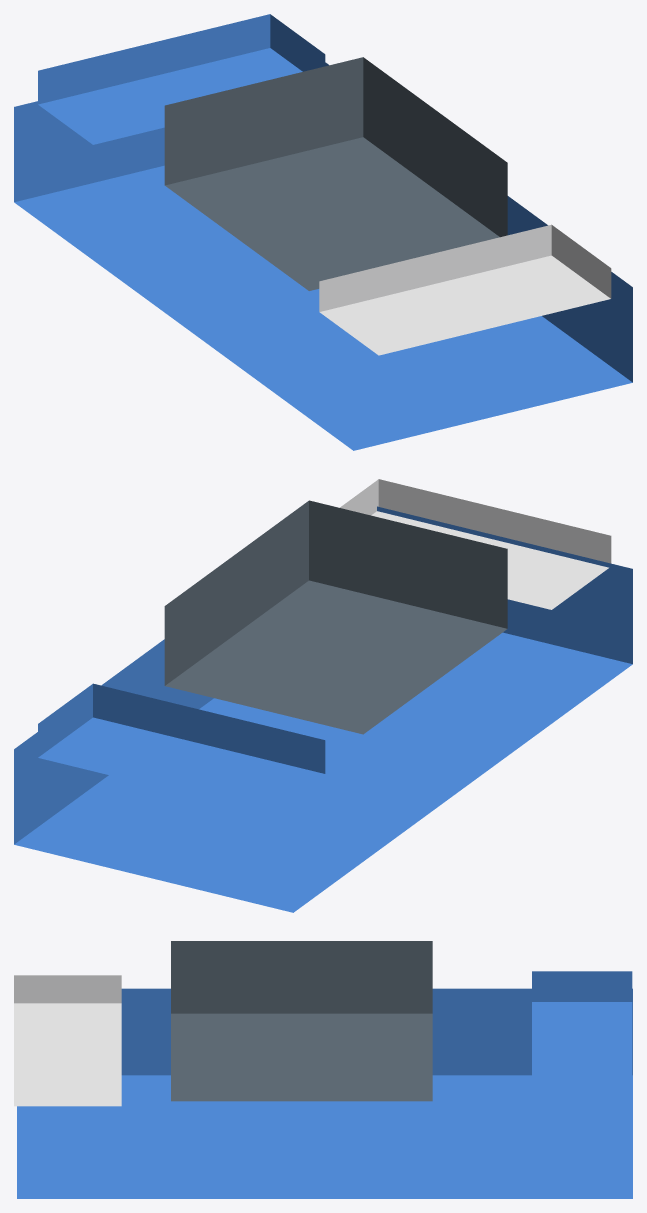
Rendered from rival_car.glb.
The picture shows the model from 3 angles, top to bottom: view 1: azimuth 30°, elevation 25°; view 2: azimuth 150°, elevation 25°; view 3: azimuth 270°, elevation 25°; orthographic projection. The views are drawn at different scales.
Bounding box in the file's own units: 1.9 × 1.09 × 4.02.
